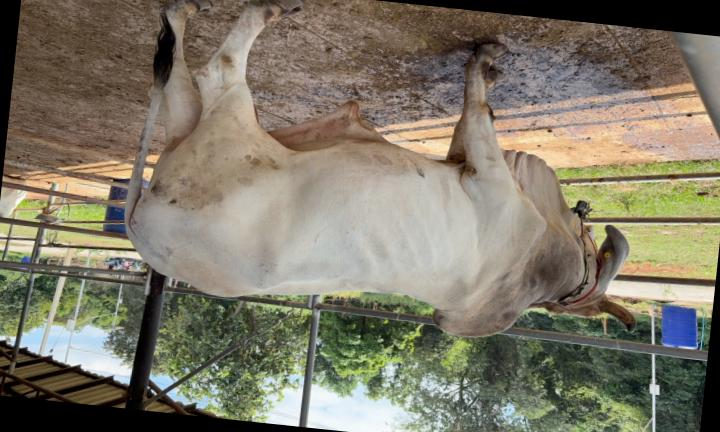Brahman: (122, 0, 635, 337)
